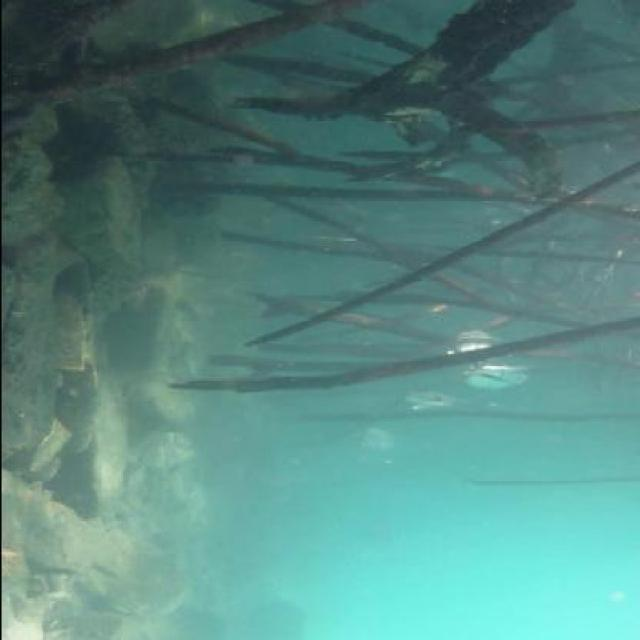Caranx_sexfasciatus_juvenile: (442, 332, 526, 386), (462, 364, 542, 394), (346, 429, 408, 463), (395, 390, 462, 418)
